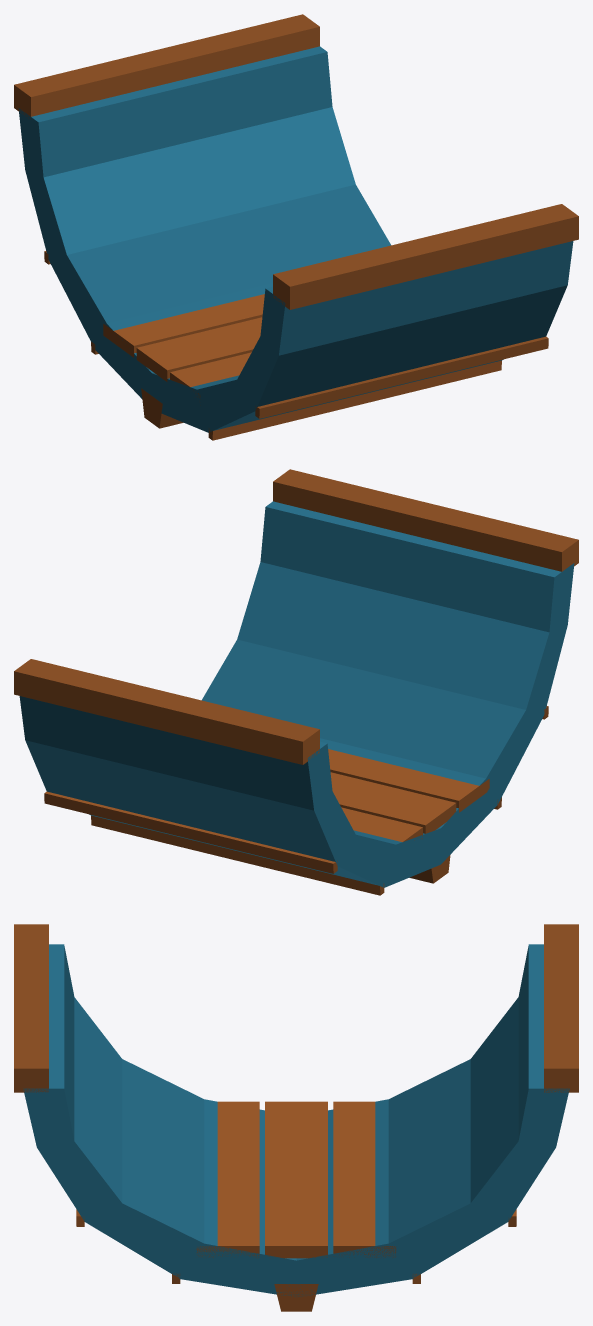
Rendered from EM_BoatMid.fbx.
The picture shows the model from 3 angles, top to bottom: view 1: azimuth 30°, elevation 25°; view 2: azimuth 150°, elevation 25°; view 3: azimuth 270°, elevation 25°; orthographic projection. The views are drawn at different scales.
Parts seen in each view (by area): view 1: EM_BoatMid; view 2: EM_BoatMid; view 3: EM_BoatMid.
Boxes of the visible parts, left/top/right/bottom form: EM_BoatMid: left=14, top=14, right=578, bottom=440; EM_BoatMid: left=14, top=469, right=578, bottom=895; EM_BoatMid: left=14, top=924, right=578, bottom=1311.
Size of the model in its own units: 1 by 0.785 by 1.65.
